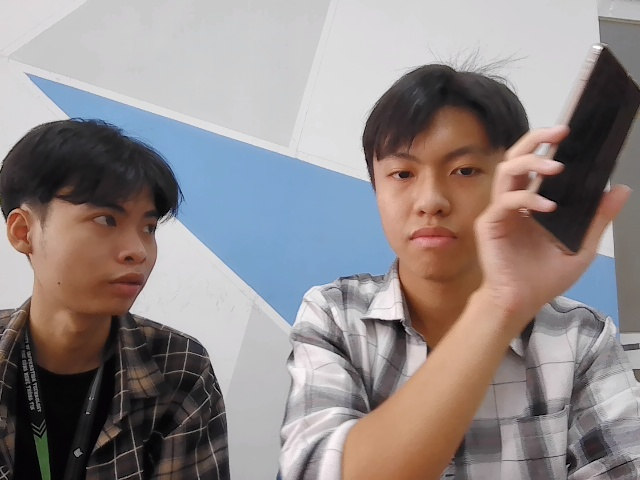human: (348, 56, 532, 297), (5, 110, 192, 339)
phone: (535, 39, 634, 270)
